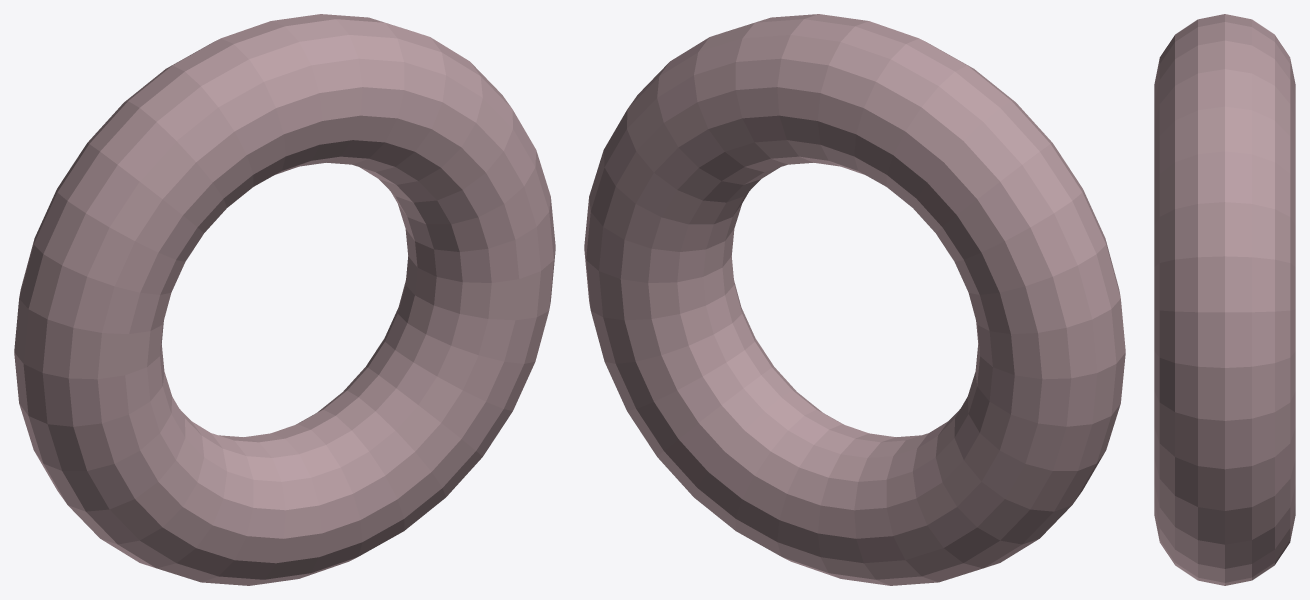
3 views of the same model, side by side, from view 1: azimuth 30°, elevation 25°; view 2: azimuth 150°, elevation 25°; view 3: azimuth 270°, elevation 25° (orthographic). The views are drawn at different scales.
Parts seen in each view (by area): view 1: world; view 2: world; view 3: world.
Boxes of the visible parts, <box> form: world: <box>14,14,555,585</box>; world: <box>584,14,1125,585</box>; world: <box>1154,14,1295,585</box>.
Bounding box in the file's own units: 1.46 × 1.46 × 0.36.
